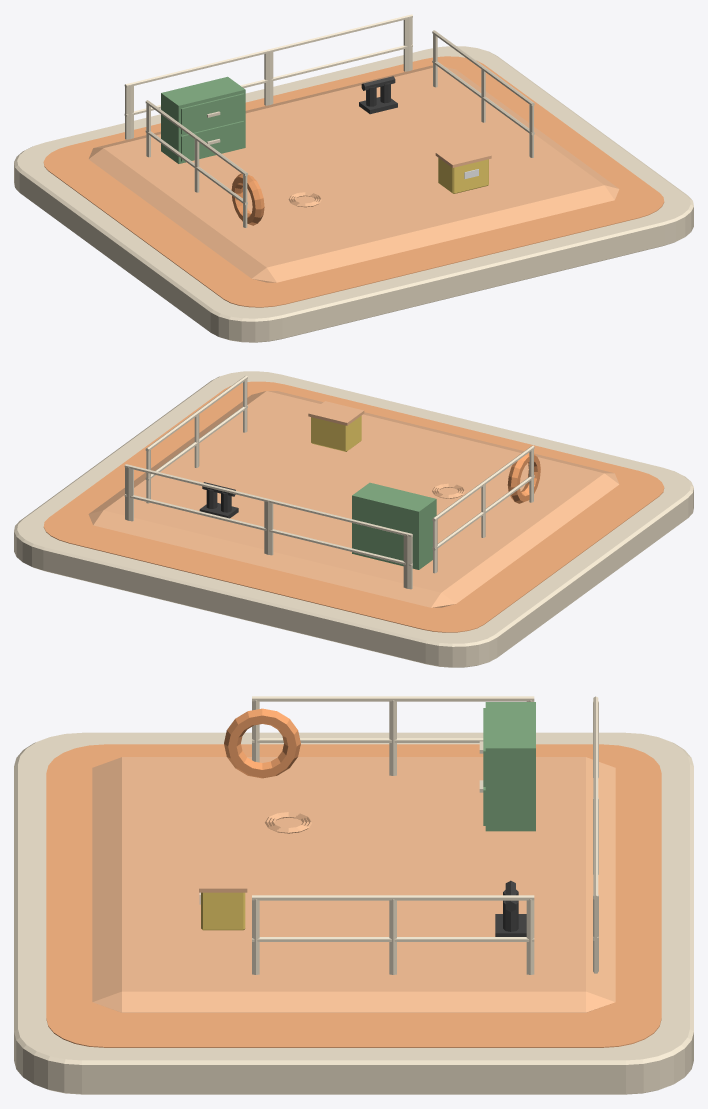
3 renders of one model, top to bottom at view 1: azimuth 30°, elevation 25°; view 2: azimuth 150°, elevation 25°; view 3: azimuth 270°, elevation 25°, orthographic. The views are drawn at different scales.
Visible parts, largest first — view 1: Deck, COM-01 Rounded Base Direct, COM-02 Floor Surface, Cabinet, Box, Rail.005, Life ring, Lid, Rail.004, Rail.003, Rail.001, Rail.002 (+3 smaller); view 2: Deck, COM-01 Rounded Base Direct, COM-02 Floor Surface, Cabinet, Box, Rail.005, Rail.004, Life ring, Lid, Rail.001, Rail.003, Rail (+4 smaller); view 3: Deck, COM-01 Rounded Base Direct, COM-02 Floor Surface, Cabinet, Life ring, Box, Rail.001, Rail.003, Lid, Rail.002, Rail.005, Rail (+1 smaller).
Part boxes in pixels (left/top/right/bottom): Deck: left=88, top=65, right=619, bottom=282; COM-01 Rounded Base Direct: left=14, top=46, right=693, bottom=342; COM-02 Floor Surface: left=43, top=56, right=664, bottom=307; Cabinet: left=161, top=76, right=245, bottom=163; Box: left=438, top=158, right=488, bottom=193; Rail.005: left=124, top=14, right=412, bottom=87; Life ring: left=231, top=173, right=264, bottom=225; Lid: left=435, top=143, right=491, bottom=167; Rail.004: left=124, top=44, right=412, bottom=116; Rail.003: left=432, top=30, right=534, bottom=106; Rail.001: left=145, top=100, right=247, bottom=176; Rail.002: left=432, top=60, right=534, bottom=135; Deck: left=88, top=391, right=619, bottom=607; COM-01 Rounded Base Direct: left=14, top=371, right=693, bottom=667; COM-02 Floor Surface: left=43, top=381, right=664, bottom=632; Cabinet: left=352, top=482, right=436, bottom=569; Box: left=311, top=415, right=361, bottom=451; Rail.005: left=124, top=464, right=412, bottom=537; Rail.004: left=124, top=494, right=412, bottom=566; Life ring: left=507, top=453, right=540, bottom=503; Lid: left=308, top=401, right=364, bottom=425; Rail.001: left=432, top=445, right=534, bottom=521; Rail.003: left=145, top=375, right=247, bottom=451; Rail: left=432, top=475, right=534, bottom=550; Deck: left=92, top=757, right=615, bottom=1012; COM-01 Rounded Base Direct: left=14, top=732, right=693, bottom=1094; COM-02 Floor Surface: left=46, top=744, right=661, bottom=1047; Cabinet: left=479, top=702, right=535, bottom=831; Life ring: left=224, top=708, right=300, bottom=778; Box: left=201, top=892, right=245, bottom=930; Rail.001: left=252, top=696, right=534, bottom=701; Rail.003: left=252, top=895, right=534, bottom=900; Lid: left=199, top=861, right=247, bottom=892; Rail.002: left=252, top=937, right=534, bottom=941; Rail.005: left=593, top=696, right=598, bottom=900; Rail: left=252, top=738, right=483, bottom=742.
Size of the model in its own units: 6 by 1.18 by 5.2.
Materials: 1 (1 with a texture image).
